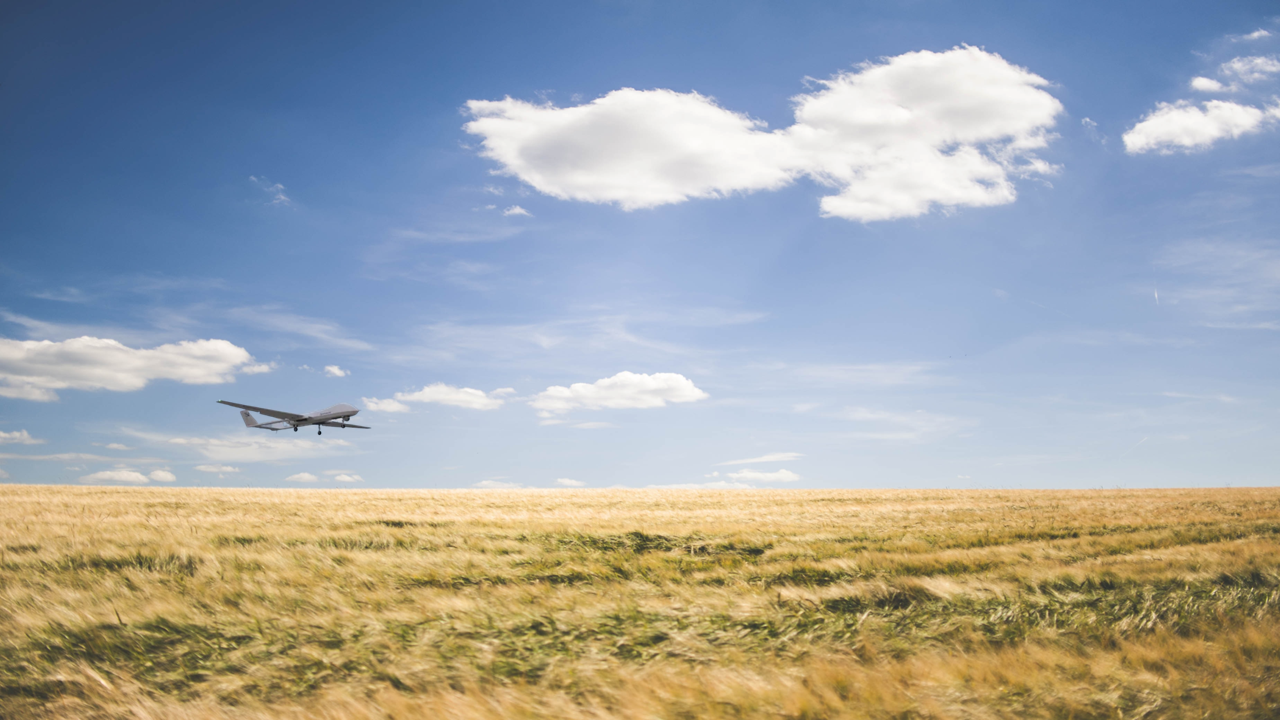military drone: (216, 398, 371, 435)
